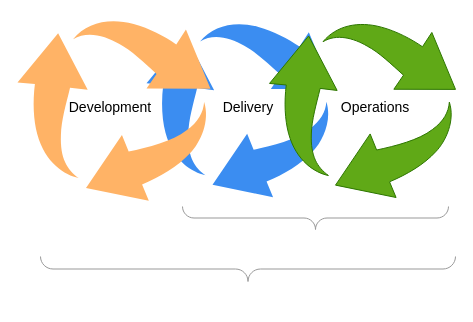
The diagram is 473 pixels wide and 322 high, and some of its shapes have lost their labels. The box of each missing label's shape, as (x1, y1, x2, y2) in pixels:
ML governance: (40, 256, 456, 282)
MLOps: (182, 206, 448, 230)
